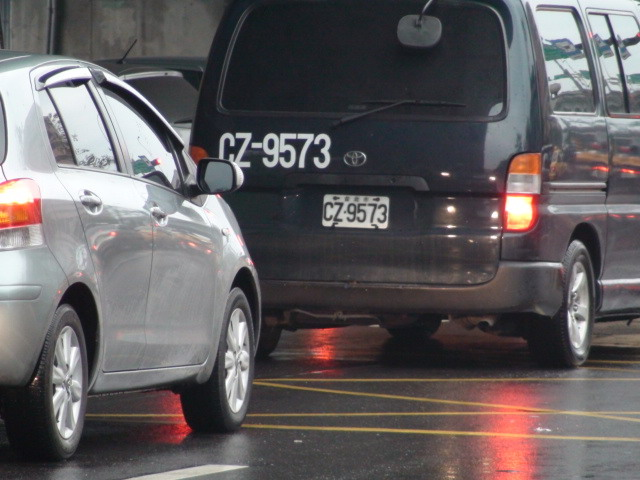plate: (319, 188, 391, 233)
